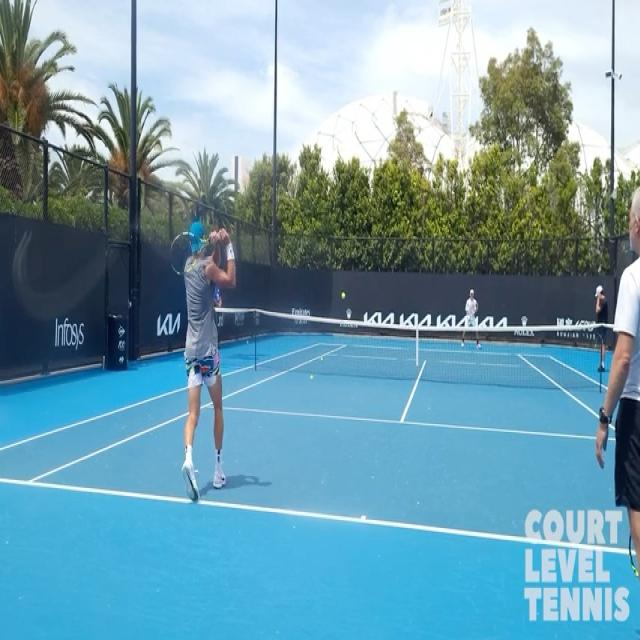backhand-finish: (163, 194, 261, 521)
